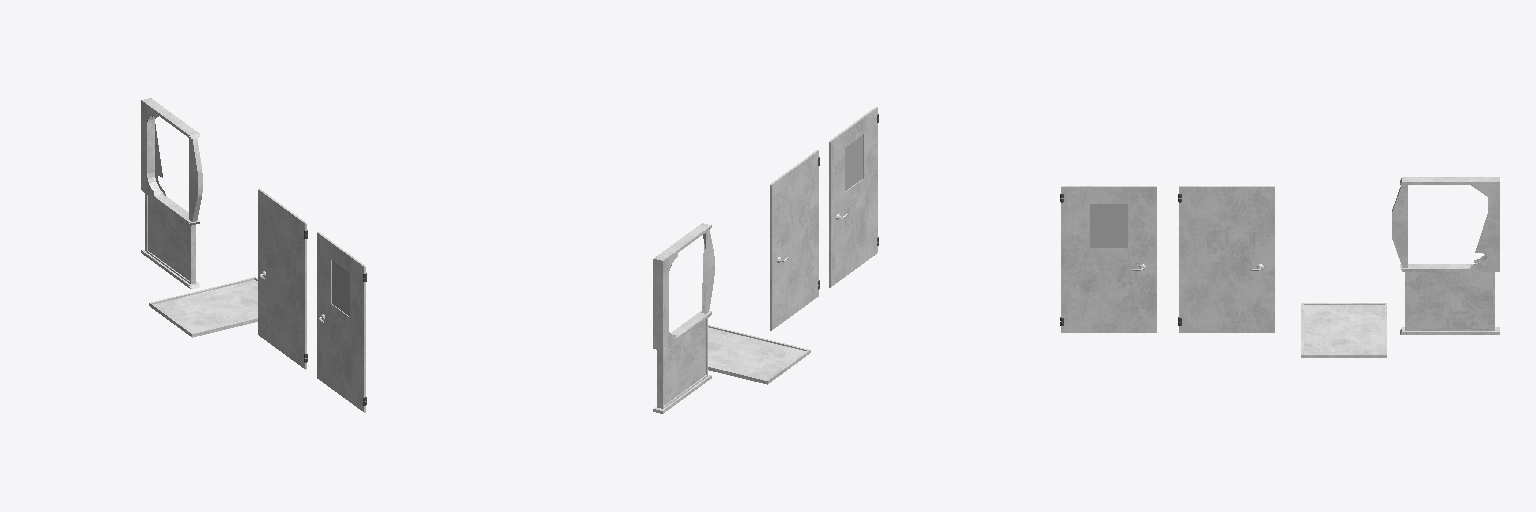
3 renders of one model, left to right at view 1: azimuth 30°, elevation 25°; view 2: azimuth 150°, elevation 25°; view 3: azimuth 270°, elevation 25°, orthographic.
Visible parts, largest first — view 1: door_2, door_1, wall, desk; view 2: door_2, door_1, wall, desk; view 3: door_2, door_1, wall, desk.
Boxes of the visible parts, x1,y1,x2,y2 form: door_2: [258, 188, 307, 369]; door_1: [317, 232, 366, 412]; wall: [141, 98, 202, 289]; desk: [149, 277, 257, 337]; door_2: [770, 150, 819, 330]; door_1: [829, 107, 878, 287]; wall: [653, 223, 714, 413]; desk: [708, 325, 810, 384]; door_2: [1178, 186, 1274, 332]; door_1: [1060, 186, 1156, 332]; wall: [1392, 177, 1499, 334]; desk: [1301, 303, 1386, 357].
Bounding box in the file's own units: 1.62 × 2.23 × 5.81.
2 materials, 1 textured.